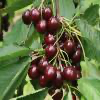Cherry leaf: (0, 55, 32, 98), (0, 39, 33, 62)
